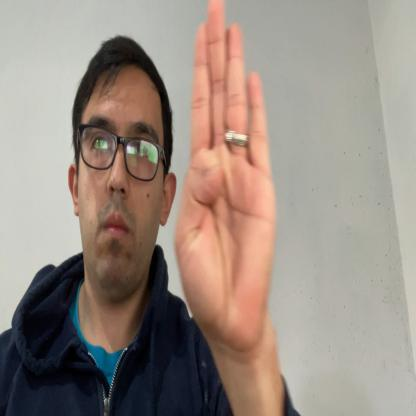B: (174, 0, 278, 355)
